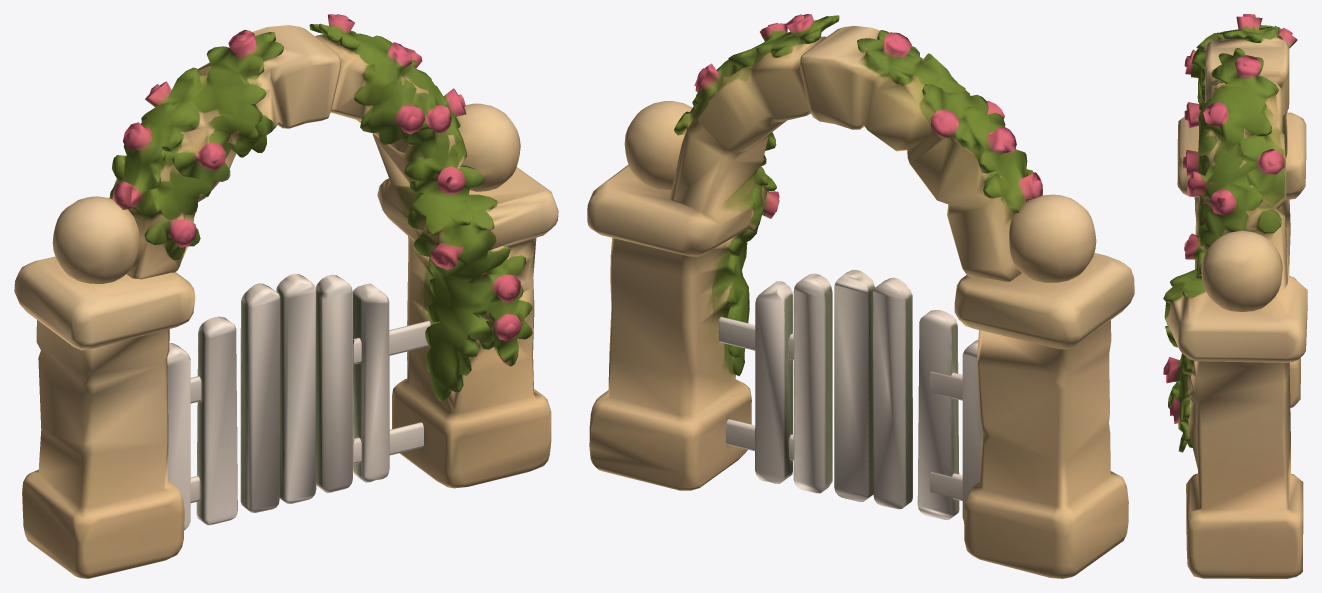
Rendered from garden_gate.glb.
3 renders of one model, left to right at view 1: azimuth 30°, elevation 25°; view 2: azimuth 150°, elevation 25°; view 3: azimuth 270°, elevation 25°, orthographic. The views are drawn at different scales.
Visible parts, largest first — view 1: garden_gate; view 2: garden_gate; view 3: garden_gate.
Part boxes in pixels (x1,y1,x2,y2): garden_gate: (14,14,558,578); garden_gate: (587,14,1134,578); garden_gate: (1163,14,1307,578).
Bounding box in the file's own units: 4.46 × 4.2 × 1.24.
Materials: 1 (1 with a texture image).
